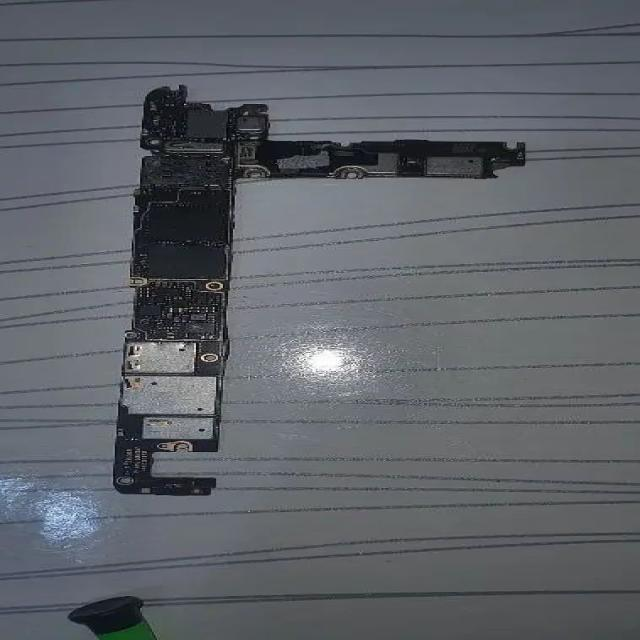electronic: (111, 83, 528, 496)
